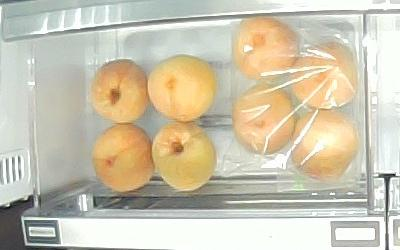peach: (151, 121, 219, 193), (147, 55, 217, 123), (91, 123, 153, 194), (91, 60, 149, 125)
peach_vinyl: (290, 111, 357, 180), (232, 83, 296, 155), (232, 16, 302, 81), (290, 43, 357, 110)
